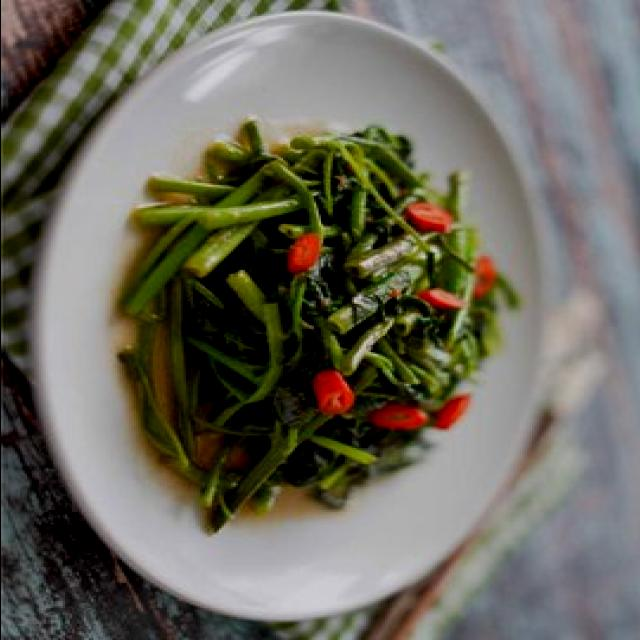tumis kangkung: (107, 117, 521, 537)
